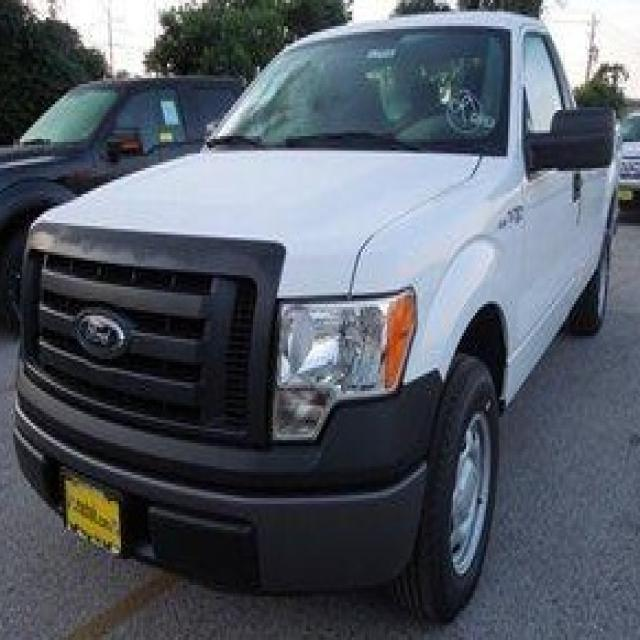CMT: (1, 7, 616, 621)
